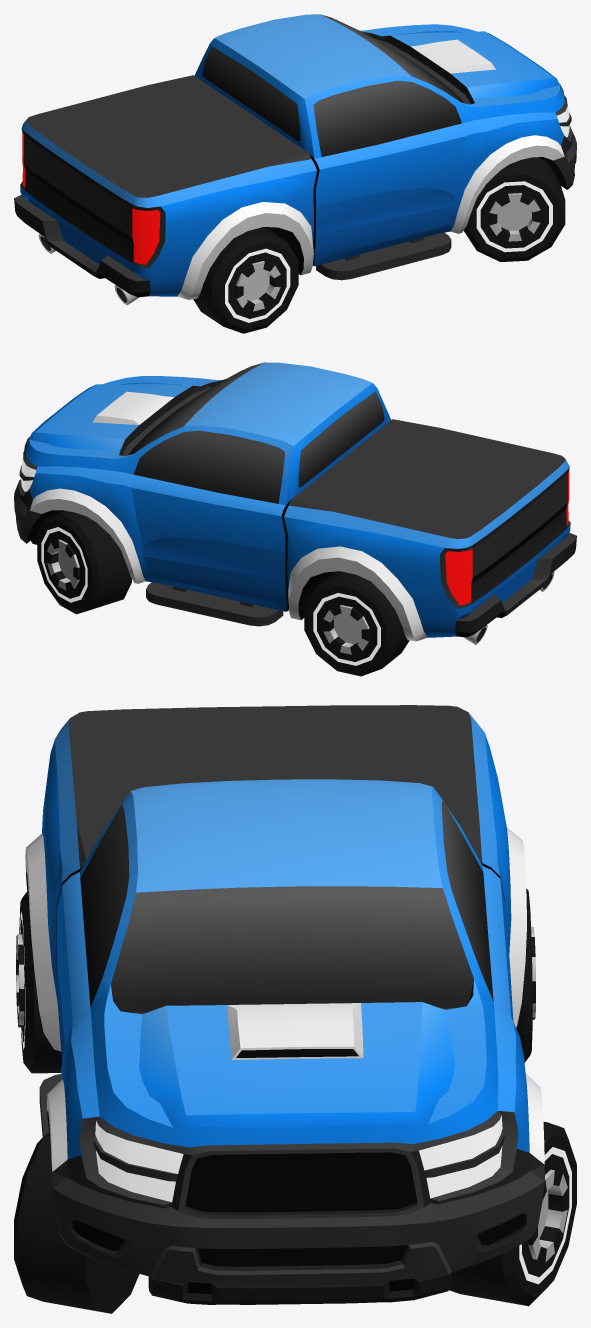
File: Car_232.glb
3 renders of one model, top to bottom at view 1: azimuth 30°, elevation 25°; view 2: azimuth 150°, elevation 25°; view 3: azimuth 270°, elevation 25°, orthographic. The views are drawn at different scales.
Visible parts, largest first — view 1: Car_232, wheel_0_Car_232_Wheel_1R, wheel_2_Car_232_Wheel_3R; view 2: Car_232, wheel_3_Car_232_Wheel_4L, wheel_1_Car_232_Wheel_2L; view 3: Car_232, wheel_0_Car_232_Wheel_1R, wheel_1_Car_232_Wheel_2L, wheel_2_Car_232_Wheel_3R, wheel_3_Car_232_Wheel_4L.
Part boxes in pixels (x1,y1,x2,y2): Car_232: (14, 14, 576, 305); wheel_0_Car_232_Wheel_1R: (463, 157, 565, 261); wheel_2_Car_232_Wheel_3R: (193, 227, 298, 333); Car_232: (14, 362, 576, 644); wheel_3_Car_232_Wheel_4L: (304, 571, 409, 676); wheel_1_Car_232_Wheel_2L: (37, 511, 131, 614); Car_232: (25, 705, 544, 1304); wheel_0_Car_232_Wheel_1R: (14, 1130, 139, 1313); wheel_1_Car_232_Wheel_2L: (449, 1122, 576, 1306); wheel_2_Car_232_Wheel_3R: (16, 890, 61, 1073); wheel_3_Car_232_Wheel_4L: (516, 888, 535, 1062).
Size of the model in its own units: 3.72 by 1.48 by 2.14.
2 materials, 2 textured.
